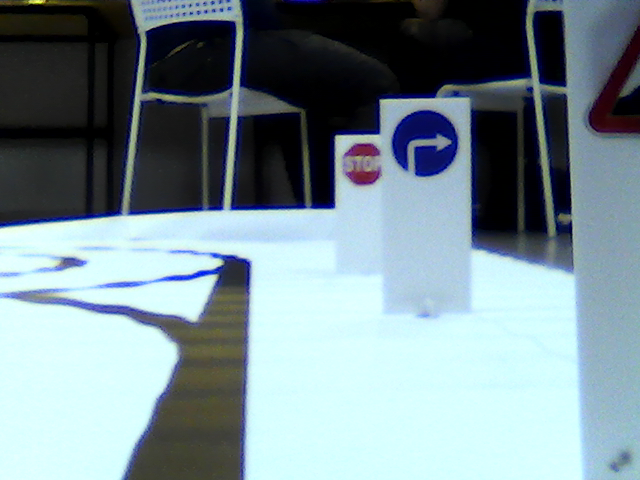Right: (390, 105, 459, 176)
Stop: (340, 140, 385, 189)
